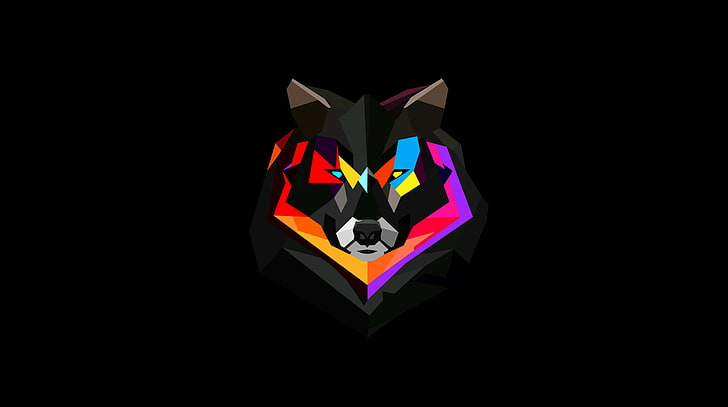Lobo: (266, 81, 496, 317)
